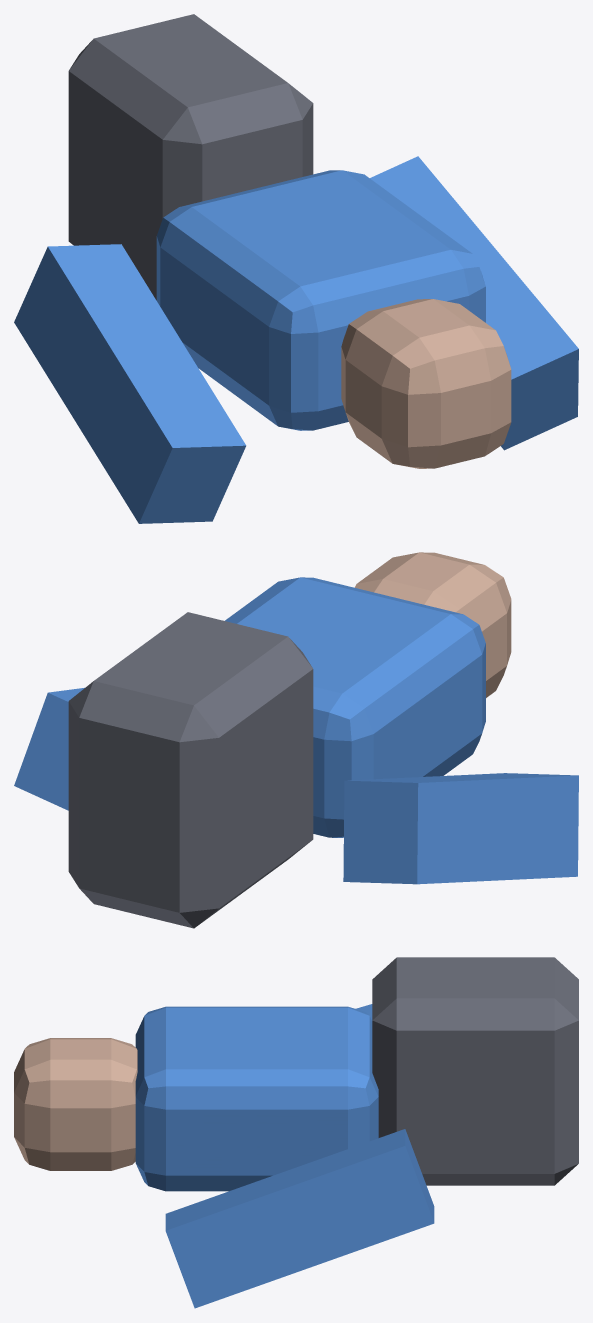
The model's file is spectator_1.glb.
The picture shows the model from 3 angles, top to bottom: view 1: azimuth 30°, elevation 25°; view 2: azimuth 150°, elevation 25°; view 3: azimuth 270°, elevation 25°; orthographic projection. The views are drawn at different scales.
Parts seen in each view (by area): view 1: spec1_torso, spec1_legs, spec1_arm_-1, spec1_head, spec1_arm_1; view 2: spec1_legs, spec1_torso, spec1_arm_-1, spec1_head, spec1_arm_1; view 3: spec1_legs, spec1_torso, spec1_arm_1, spec1_head.
Part boxes in pixels (x1,y1,x2,y2): spec1_torso: [156, 170, 485, 430]; spec1_legs: [68, 14, 313, 300]; spec1_arm_-1: [14, 244, 246, 523]; spec1_head: [341, 299, 511, 468]; spec1_arm_1: [370, 156, 578, 450]; spec1_legs: [68, 612, 313, 928]; spec1_torso: [225, 577, 485, 837]; spec1_arm_-1: [343, 773, 578, 884]; spec1_head: [355, 552, 511, 697]; spec1_arm_1: [14, 687, 84, 810]; spec1_legs: [372, 957, 578, 1185]; spec1_torso: [135, 1006, 378, 1191]; spec1_arm_1: [165, 1129, 434, 1308]; spec1_head: [14, 1038, 137, 1170].
Bounding box in the file's own units: 0.7002 × 0.4612 × 0.93.
